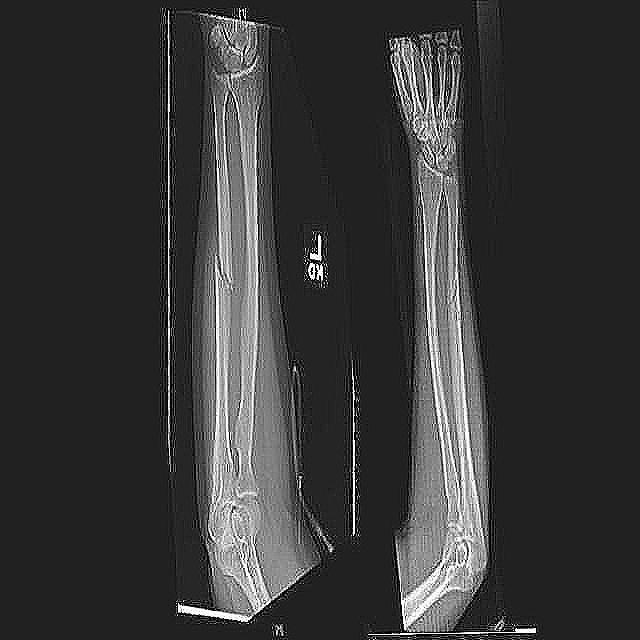bone: (209, 241, 239, 307), (440, 278, 468, 323)
